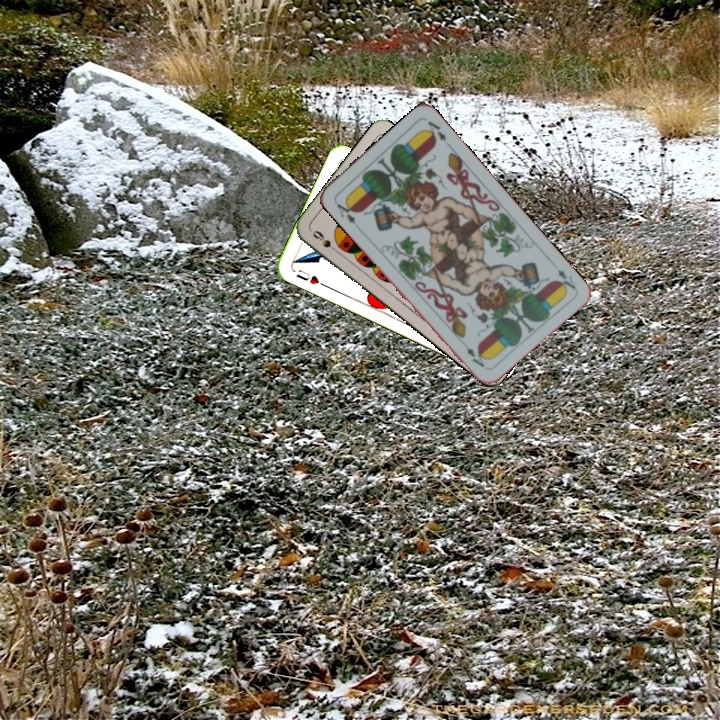EA: (331, 195, 359, 227), (553, 265, 578, 295)
HU: (292, 265, 322, 287)
S9: (308, 226, 342, 256)
